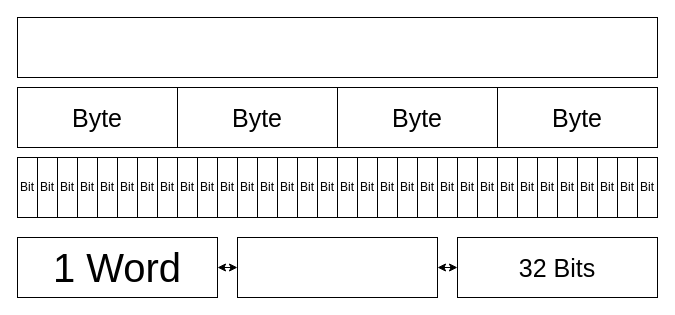
The diagram is 675 pixels wide and 315 high, and some of its shapes have lost their labels. The shapes that lost their labels are listed below. From the top down, each one's centre as x and y in pixels, then its label:
the point at 337,47: Word
the point at 337,267: 4 Bytes ( 4 ASCII chars )
